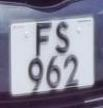2: (63, 55, 82, 92)
6: (45, 55, 64, 92)
9: (26, 56, 47, 94)
F: (31, 20, 54, 57)
S: (51, 17, 73, 55)
